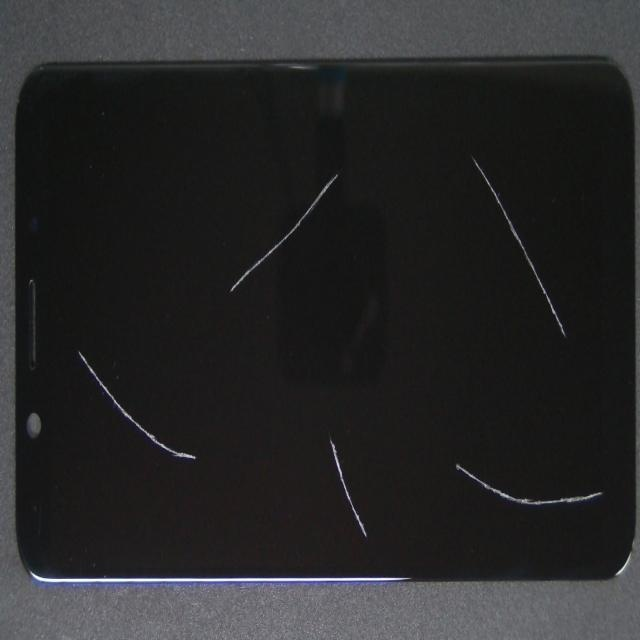scratch: (248, 13, 468, 276)
